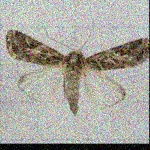Spodoptera litura: (5, 19, 149, 114)
